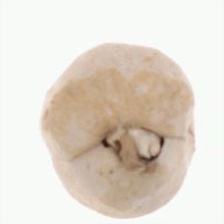L3: (100, 123, 167, 168)
L4: (40, 43, 197, 219)
